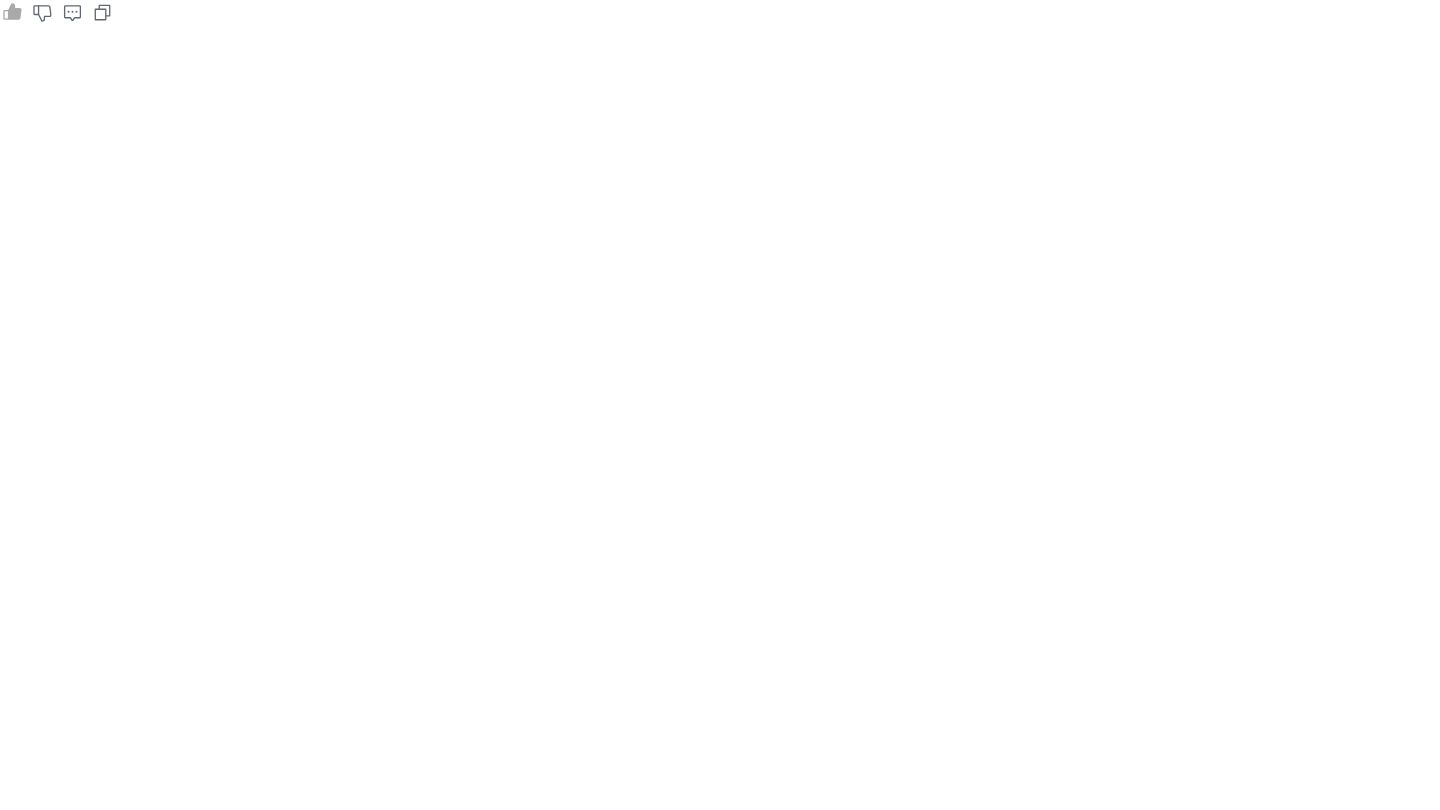
FeedbackIconsBar › should open feedback modal on comment click
The image size is (1440, 810).
Step 1. Click the 3rd icon → (72, 12), box [60, 0, 85, 25]
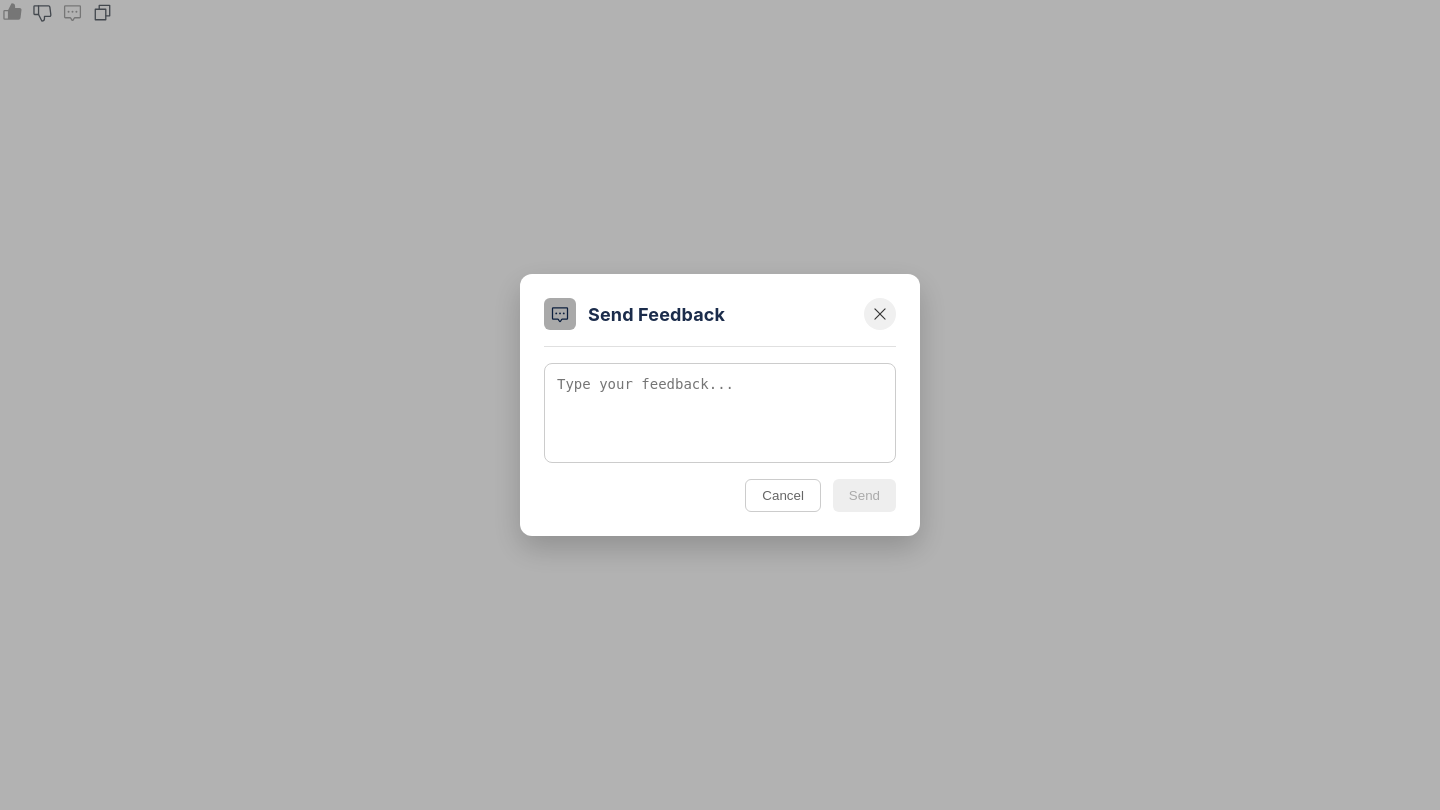
Result: the text "Send Feedback" is shown at [544, 298, 725, 330]
